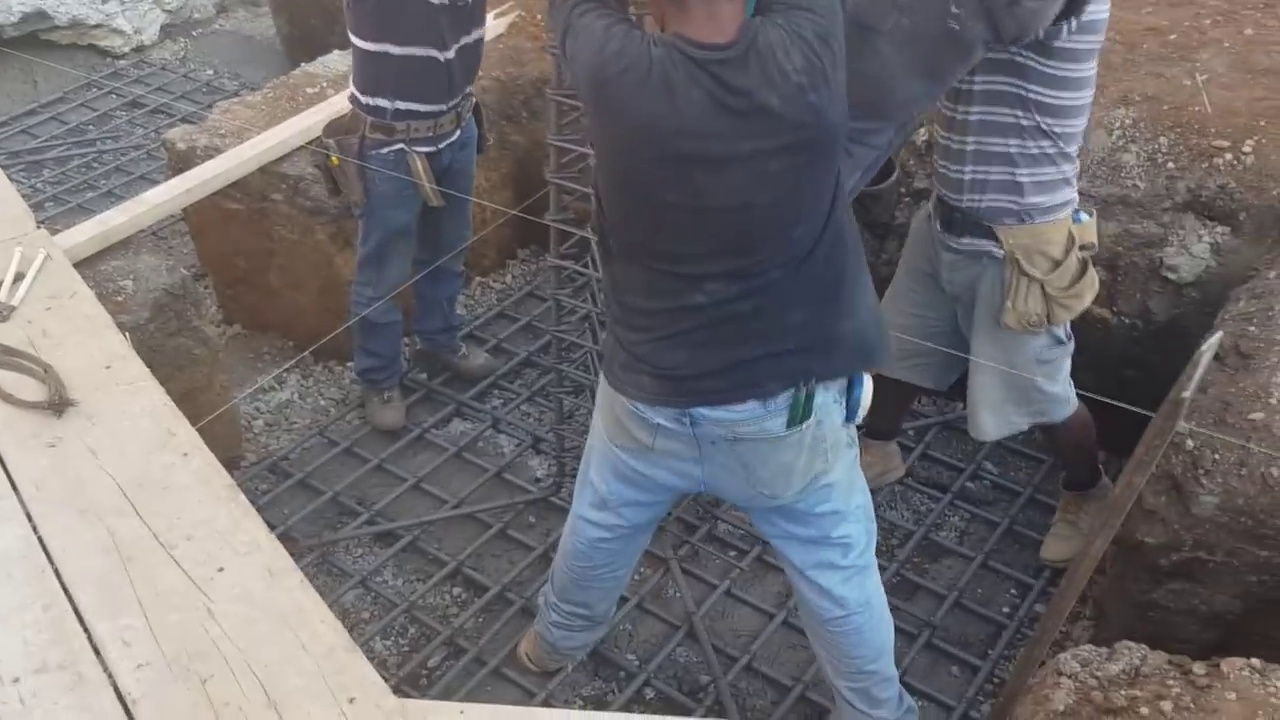person: (528, 0, 1005, 720), (874, 5, 1128, 570), (320, 0, 498, 441)
